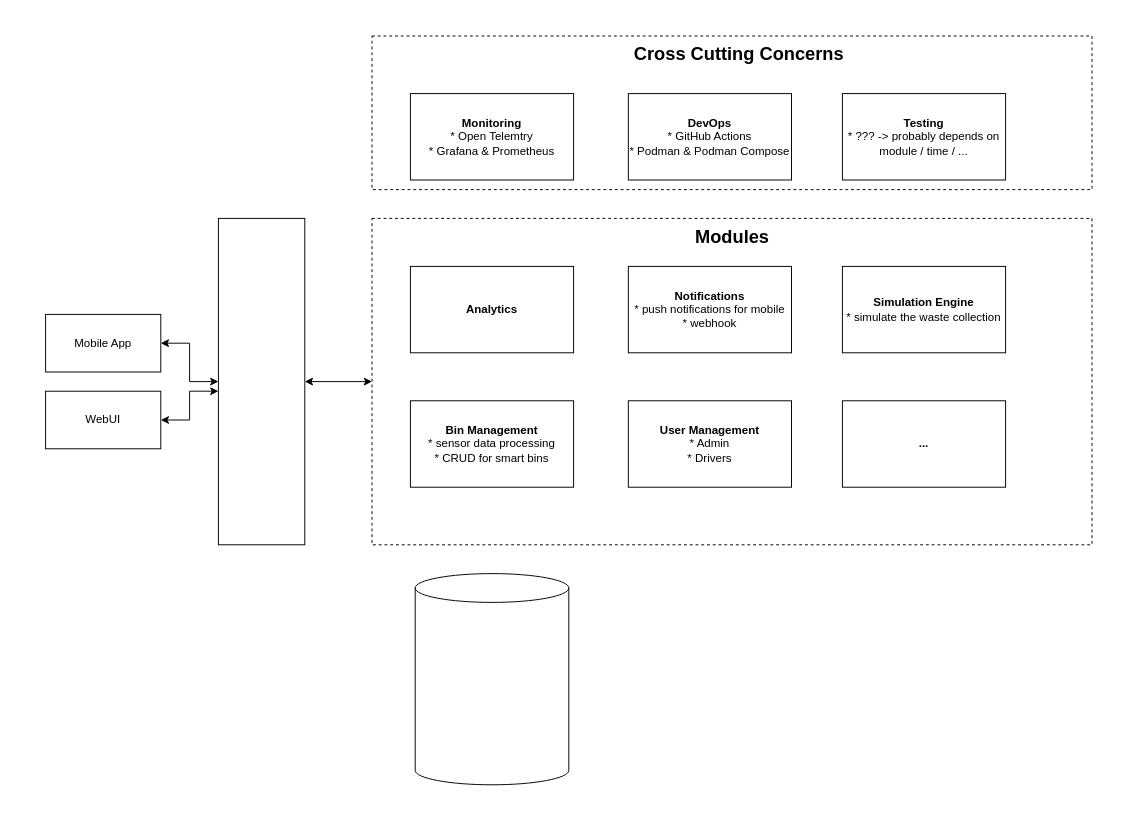
This 1137x820 diagram has some shape labels left out. The shapes that lost their labels are listed below. From the top down, each one's centre as x and y in pixels, then its label:
At pixel 261 381: "Backend- Gateway".
At pixel 491 679: "PostgresSQL * user data * sensor data * simulation * simulation configurations".
